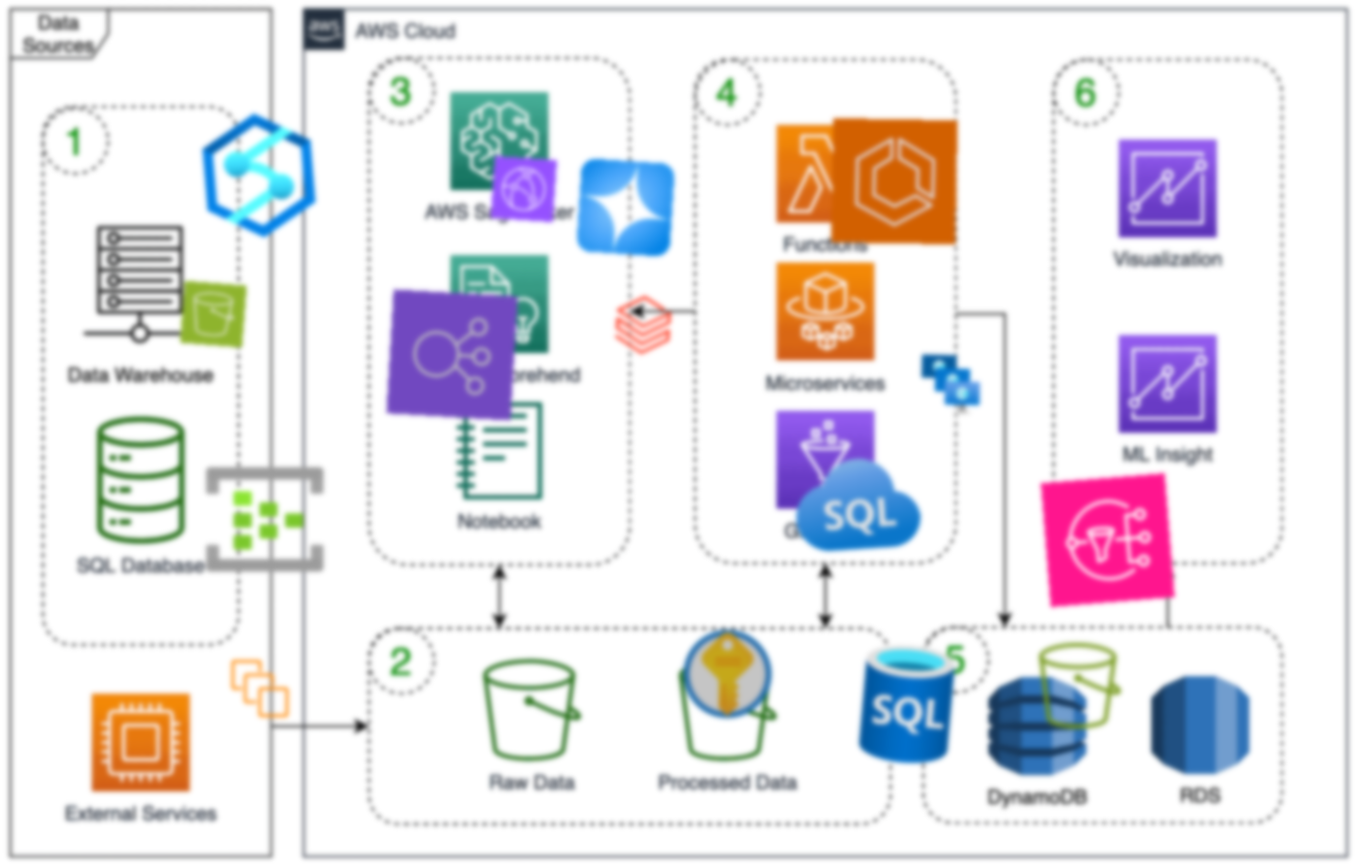aws_amazon_cloudfront: (490, 155, 558, 223)
aws_amazon_elastic_container_service: (829, 116, 957, 244)
aws_amazon_simple_notification_service: (1041, 473, 1175, 606)
aws_amazon_simple_storage_service: (178, 279, 246, 348)
aws_ec2_instances: (227, 657, 292, 720)
aws_elastic_load_balancing: (386, 289, 517, 420)
aws_simple_storage_service_s3_standard: (1031, 637, 1126, 732)
azure_databricks: (608, 291, 676, 358)
azure_event_hubs: (202, 456, 327, 582)
azure_key_vaults: (680, 626, 775, 722)
azure_openai: (575, 157, 676, 257)
azure_sql: (790, 439, 924, 572)
azure_sql_database: (839, 635, 974, 772)
azure_synapse_analytics: (191, 107, 326, 242)
azure_vm_scale_sets: (918, 351, 981, 414)
